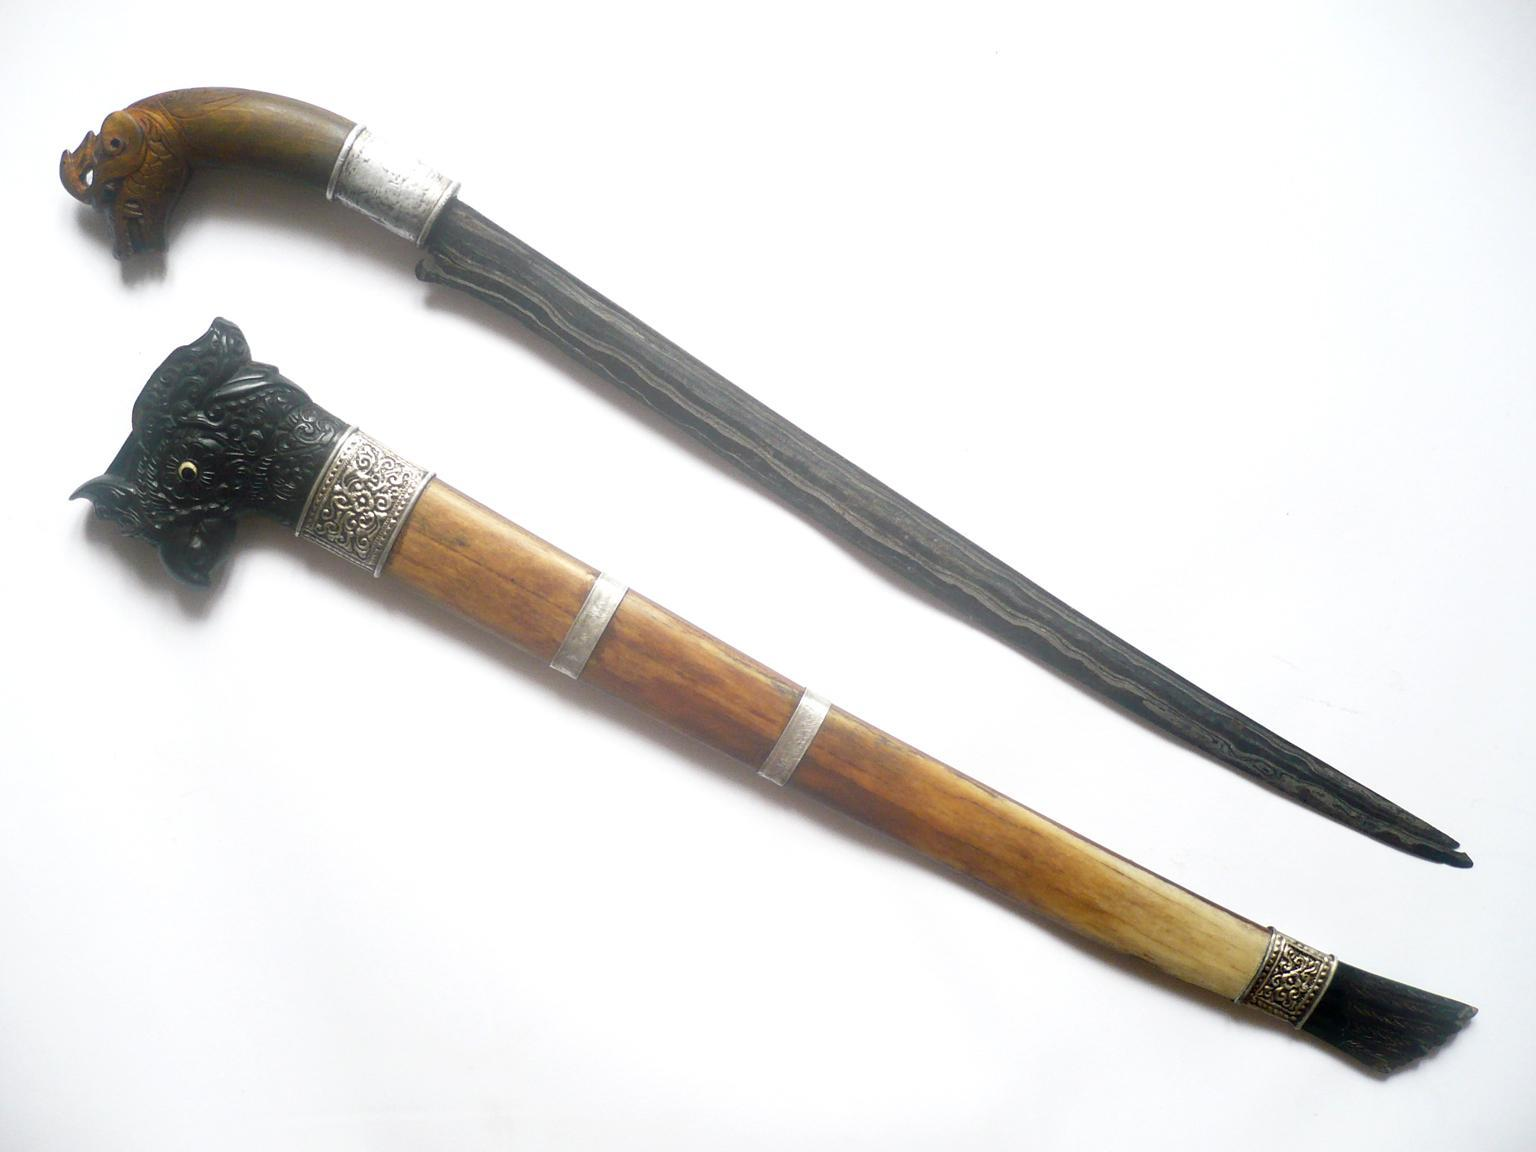espada: (60, 87, 1469, 866)
